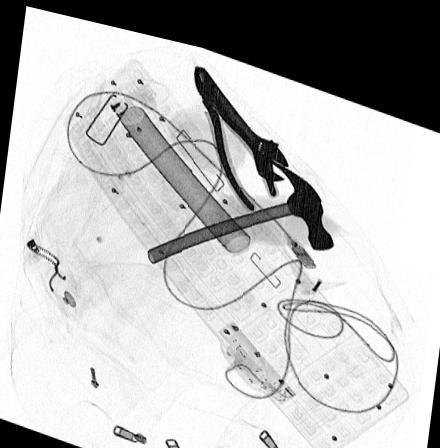Hammer: (143, 142, 332, 256)
Pliers: (189, 57, 280, 201)
Wrench: (196, 55, 289, 169)
